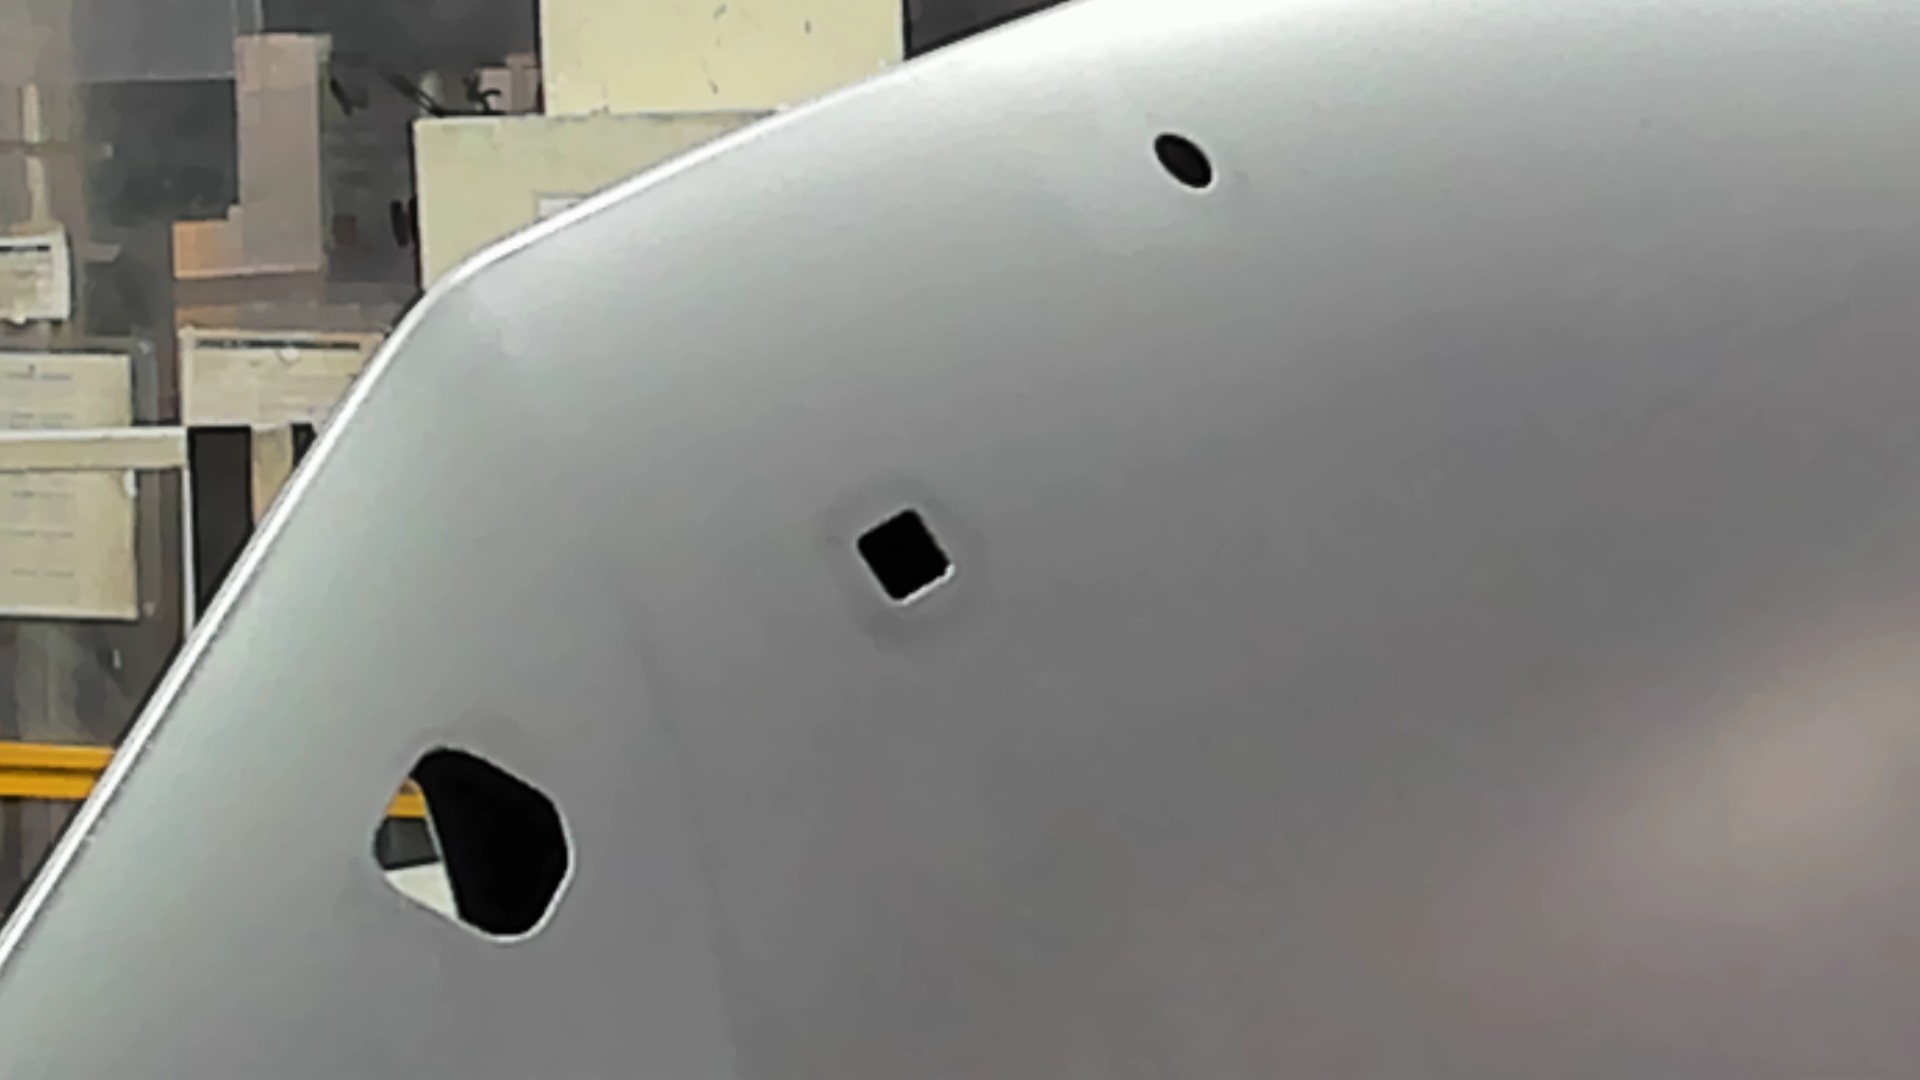capo: (964, 200, 1920, 1080)
chico: (1149, 129, 1220, 196)
grande: (364, 740, 579, 949)
mediano: (849, 498, 957, 611)
